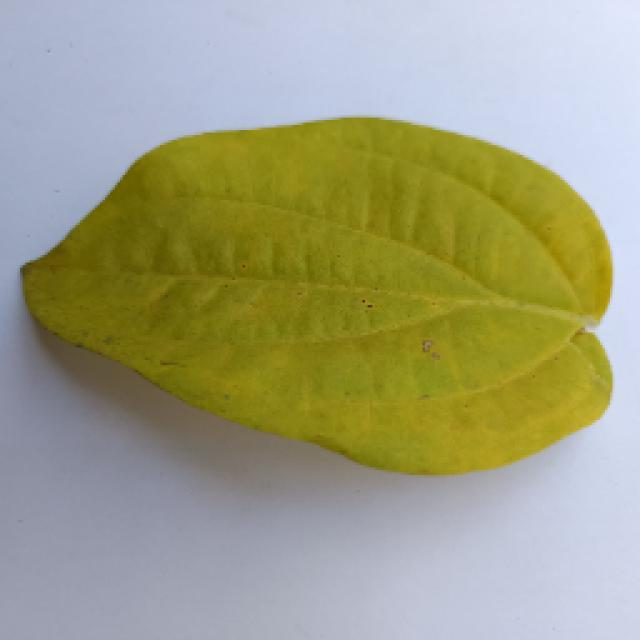slow-decline: (12, 113, 610, 475)
